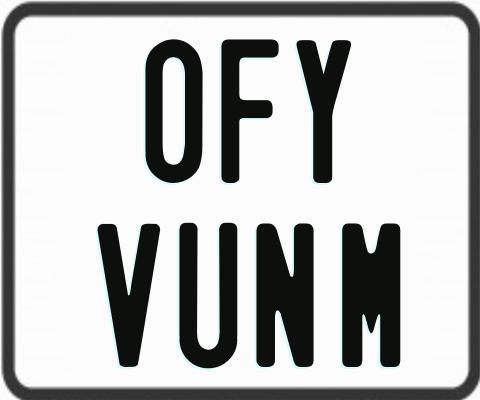0: (145, 38, 205, 183)
F: (218, 37, 276, 182)
M: (342, 222, 401, 366)
N: (253, 223, 315, 366)
U: (178, 223, 242, 373)
V: (95, 223, 163, 369)
Y: (296, 37, 356, 183)
